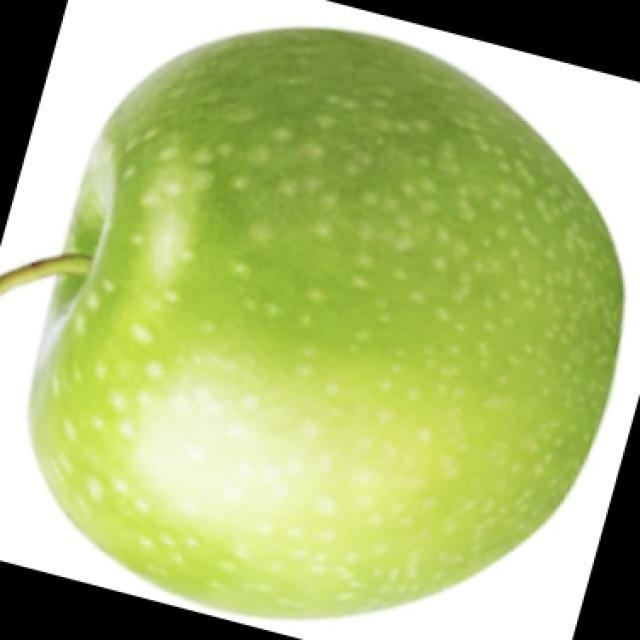Fresh Apple: (75, 47, 602, 590)
